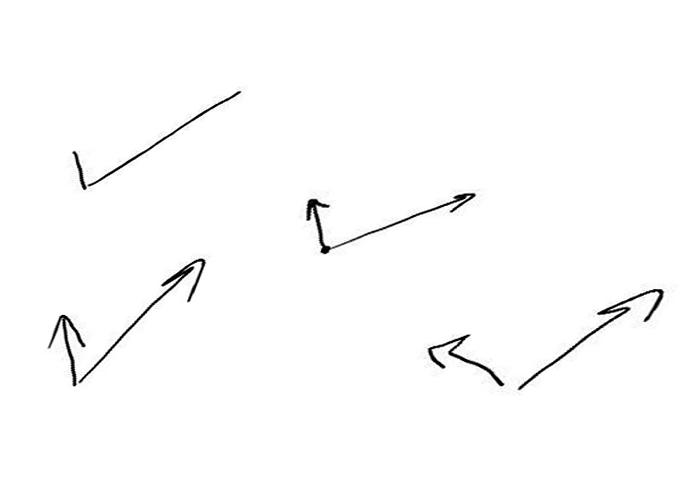arrow: (77, 255, 206, 379), (516, 288, 665, 388), (335, 190, 479, 253), (425, 338, 505, 386), (44, 313, 86, 384), (301, 198, 327, 247)
arrownohead: (88, 90, 241, 186), (67, 147, 89, 188)
